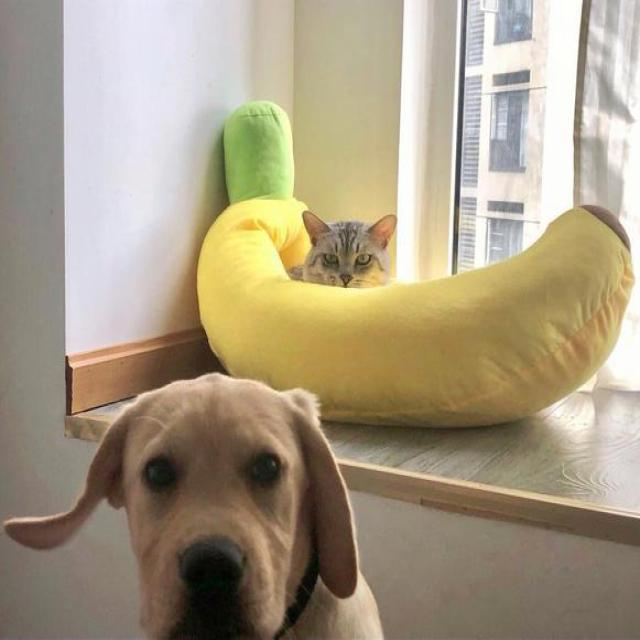cat: (271, 185, 408, 308)
dog: (0, 352, 403, 640)
